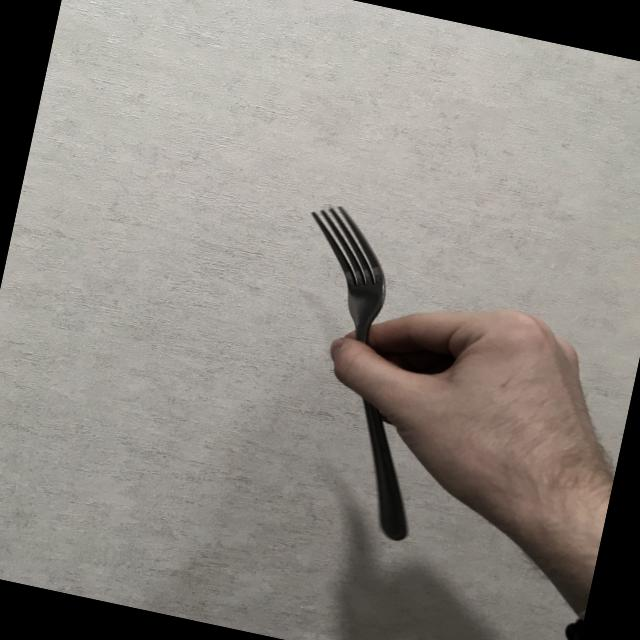fork: (246, 198, 470, 542)
